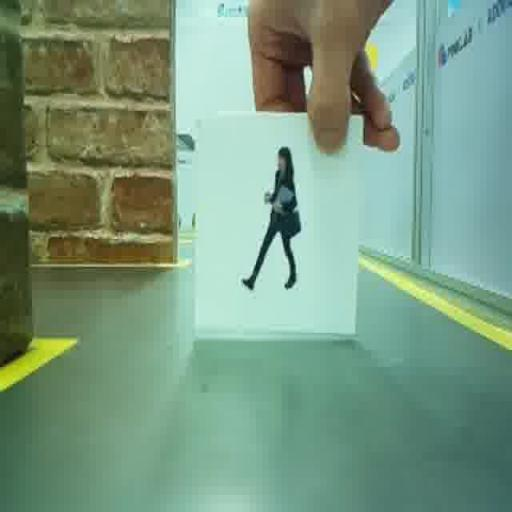human: (242, 146, 300, 289)
